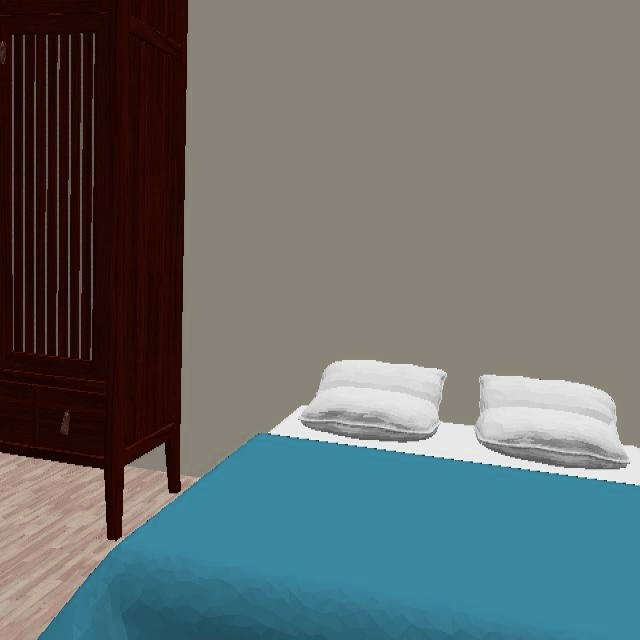bed: (35, 423, 640, 640)
pillow: (474, 375, 631, 471), (299, 360, 448, 443)
